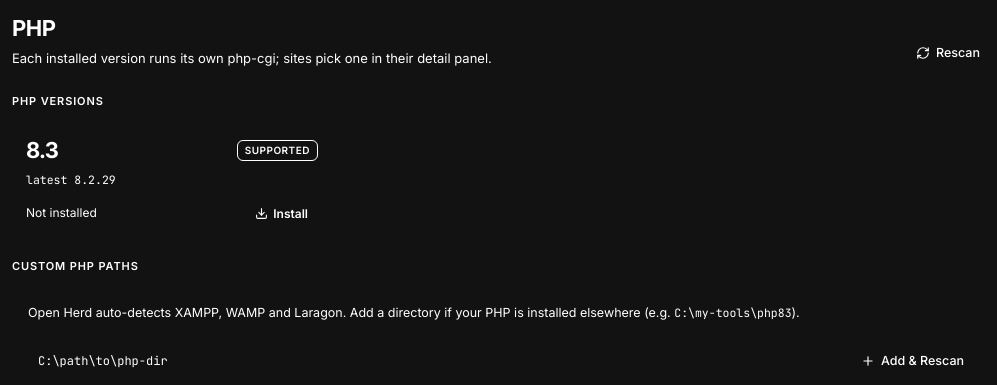
Test case: Install › shows pending state immediately after Install click
Click the button "Install": {"x": 282, "y": 213} 245,199 -> 318,227
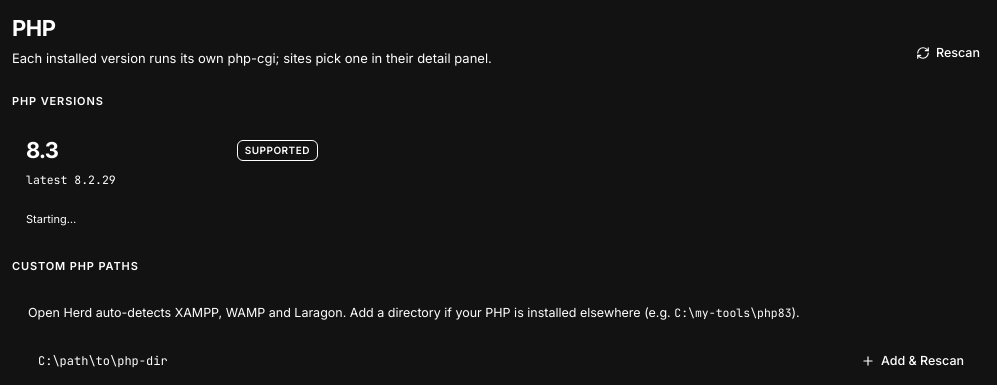
expect the text "Starting…" is shown: met, box 26,212 -> 76,226
